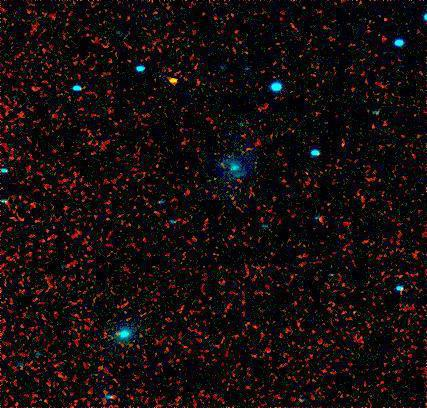star: (159, 66, 189, 96)
